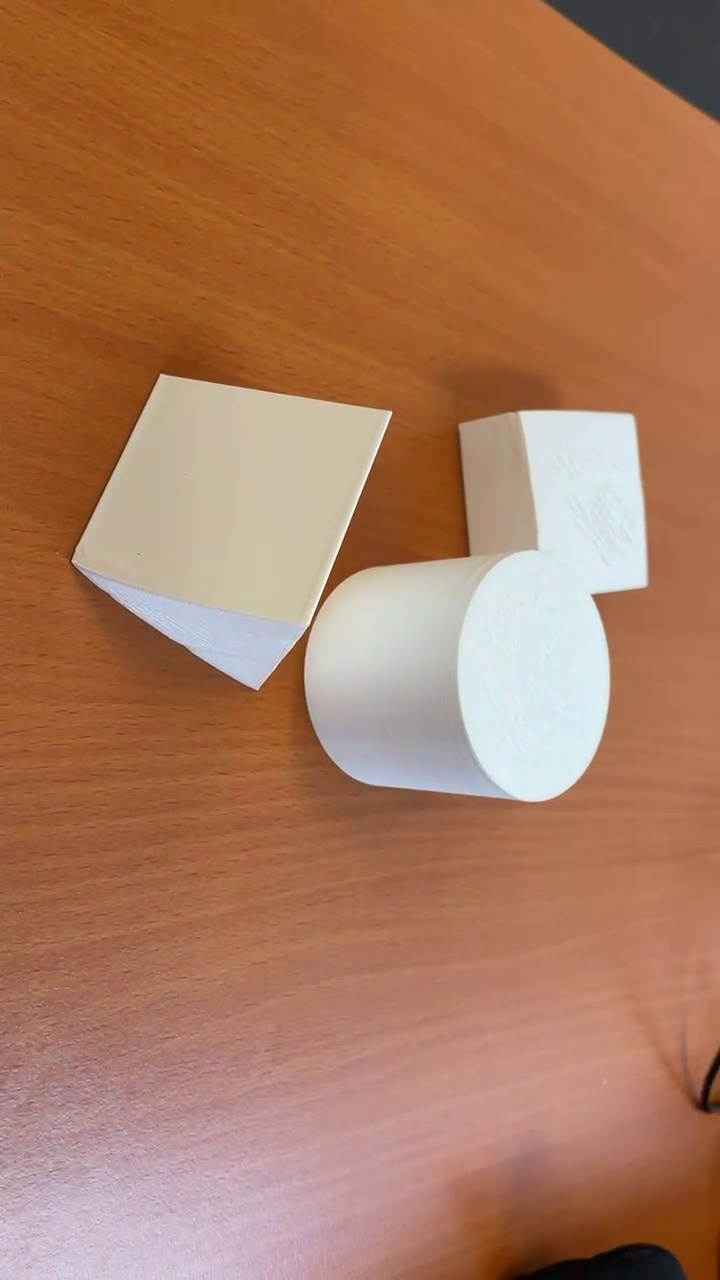Cube_short: (457, 398, 649, 594)
Cylinder: (300, 557, 613, 804)
Triangle: (71, 372, 397, 693)
